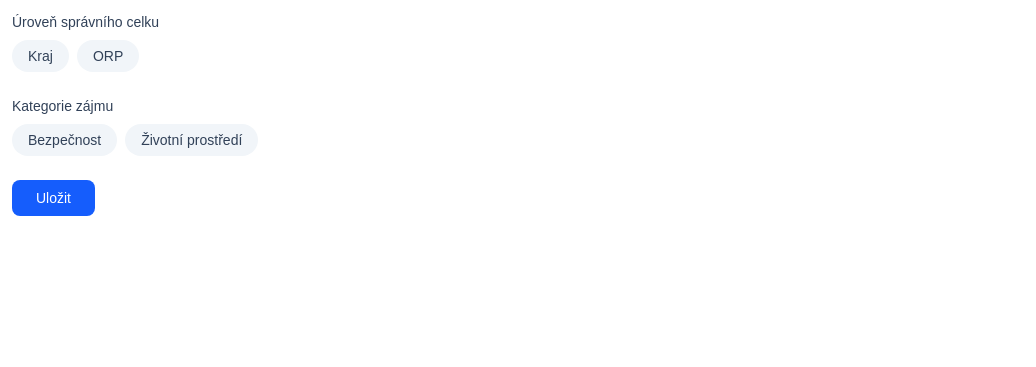
it: PreferencesForm › shows territory list after selecting level
This screenshot has width=1036, height=367.
Click the button with test id "level-kraj": (40, 56) [12,40,69,72]
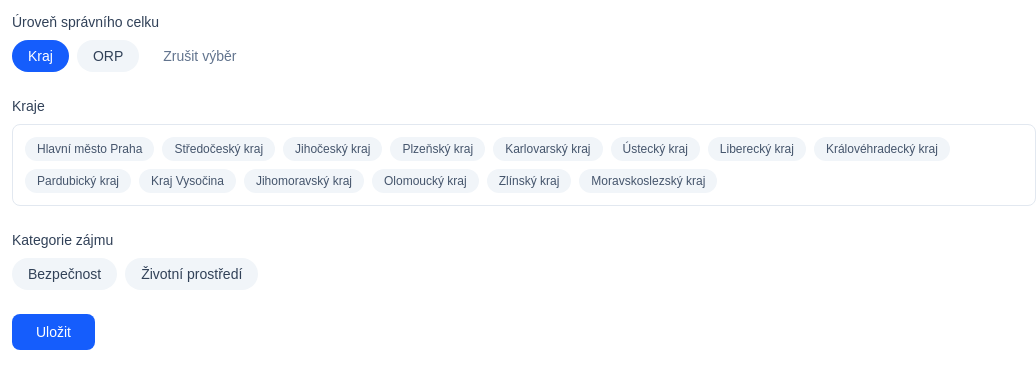
Now the element with test id "territory-list" is shown, box [12,124,1035,206]
Now the button with test id "territory-Hlavní město Praha" is shown, box [25,137,154,161]
